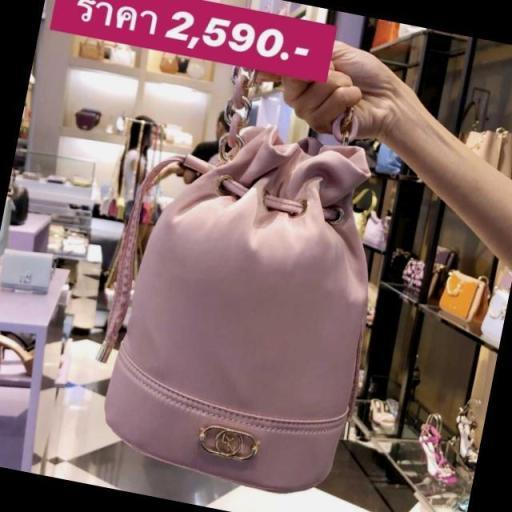bag: (105, 115, 403, 509)
